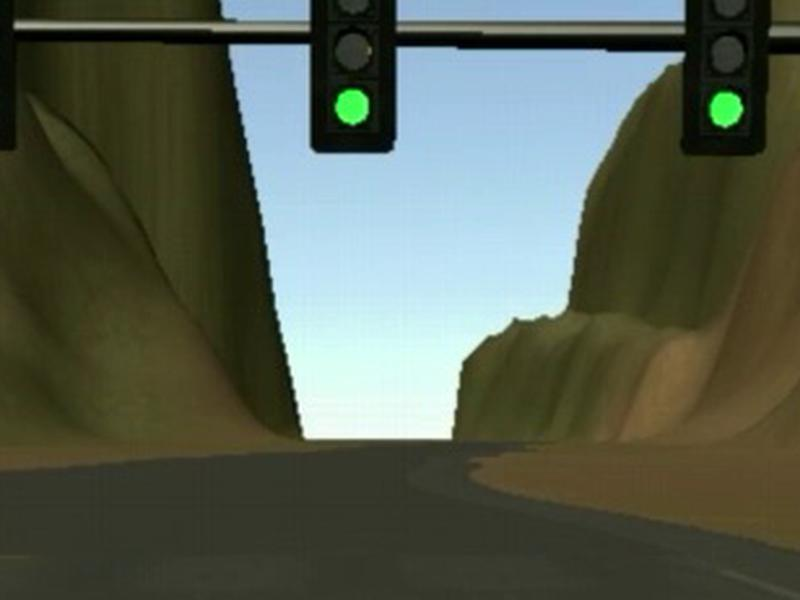Green: (682, 1, 772, 156), (308, 1, 396, 154)
